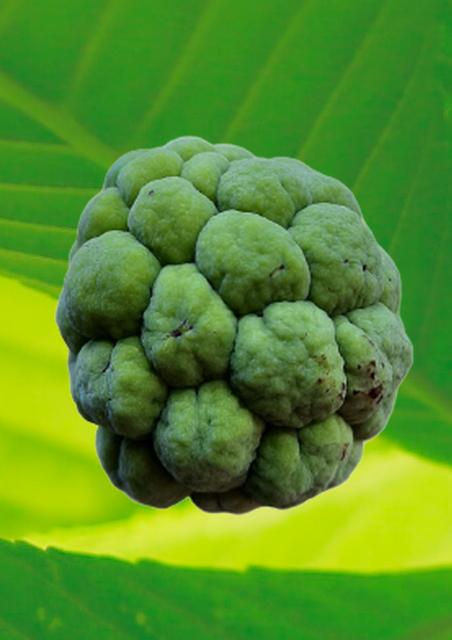atis: (54, 134, 413, 516)
